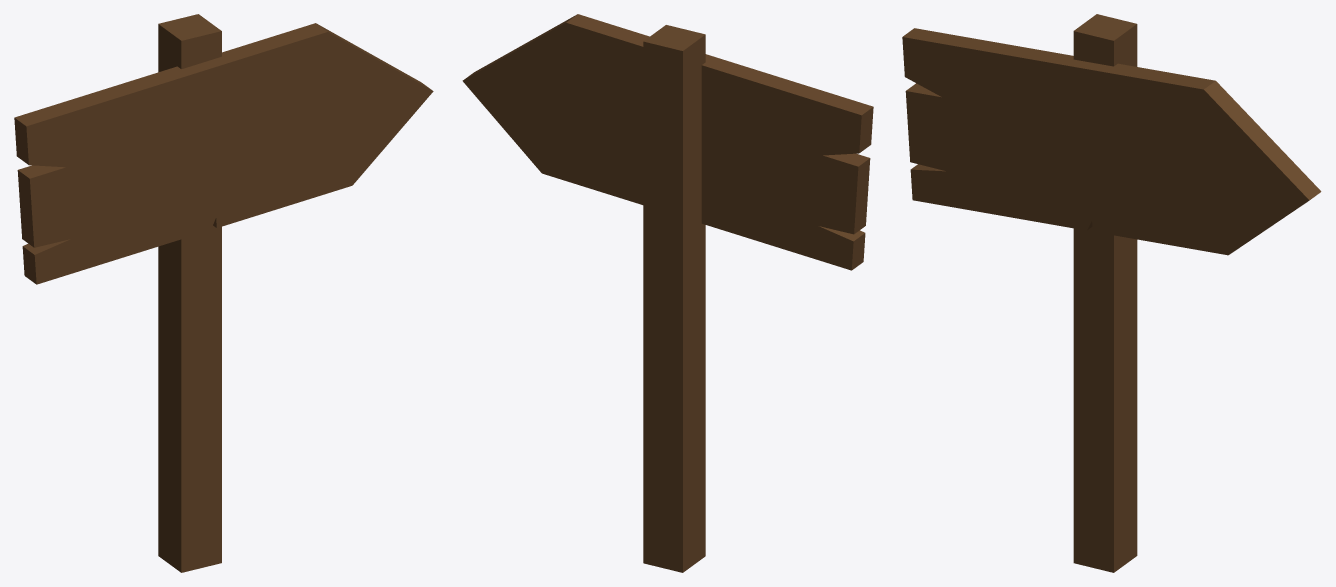
The model's file is Sign_Wooden_Blank_01.fbx.
The picture shows the model from 3 angles, left to right: view 1: azimuth 30°, elevation 25°; view 2: azimuth 150°, elevation 25°; view 3: azimuth 330°, elevation 25°; orthographic projection.
Parts seen in each view (by area): view 1: Sign_Wooden_Blank_01 (×2); view 2: Sign_Wooden_Blank_01 (×2); view 3: Sign_Wooden_Blank_01 (×2).
Part boxes in pixels (x1,y1,x2,y2): Sign_Wooden_Blank_01 (×2): (14,14,433,572); Sign_Wooden_Blank_01 (×2): (462,14,873,572); Sign_Wooden_Blank_01 (×2): (902,14,1321,572).
Bounding box in the file's own units: 38.77 × 48.4 × 5.17.
